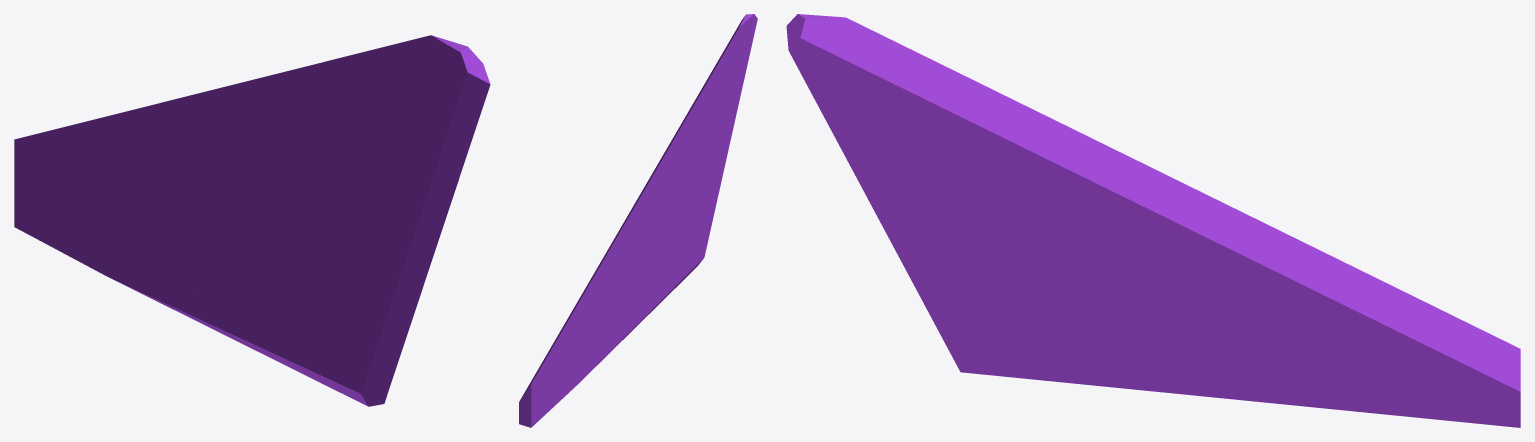
Rendered from Window_13_9_chunks.fbx.
3 views of the same model, side by side, from view 1: azimuth 30°, elevation 25°; view 2: azimuth 150°, elevation 25°; view 3: azimuth 270°, elevation 25° (orthographic). The views are drawn at different scales.
Visible parts, largest first — view 1: Window_13_9_2, Window_13_9_3, Window_13_9_0, Window_13_9_5, Window_13_9_1, Window_13_9_6, Window_13_9_4; view 2: Window_13_9_2, Window_13_9_3, Window_13_9_5, Window_13_9_0, Window_13_9_1, Window_13_9_6, Window_13_9_4; view 3: Window_13_9_2, Window_13_9_1, Window_13_9_3, Window_13_9_5, Window_13_9_6, Window_13_9_4, Window_13_9_0.
Boxes of the visible parts, x1=… form: Window_13_9_2: x1=267, y1=35, x2=490, y2=301; Window_13_9_3: x1=14, y1=115, x2=171, y2=294; Window_13_9_0: x1=271, y1=179, x2=418, y2=406; Window_13_9_5: x1=168, y1=76, x2=284, y2=300; Window_13_9_1: x1=185, y1=215, x2=393, y2=405; Window_13_9_6: x1=110, y1=86, x2=228, y2=199; Window_13_9_4: x1=143, y1=233, x2=197, y2=314; Window_13_9_2: x1=648, y1=14, x2=757, y2=205; Window_13_9_3: x1=519, y1=301, x2=609, y2=427; Window_13_9_5: x1=608, y1=168, x2=665, y2=330; Window_13_9_0: x1=659, y1=179, x2=721, y2=278; Window_13_9_1: x1=615, y1=234, x2=691, y2=347; Window_13_9_6: x1=572, y1=201, x2=637, y2=310; Window_13_9_4: x1=596, y1=316, x2=622, y2=365; Window_13_9_2: x1=786, y1=14, x2=1111, y2=268; Window_13_9_1: x1=945, y1=231, x2=1268, y2=402; Window_13_9_3: x1=1298, y1=272, x2=1520, y2=427; Window_13_9_5: x1=1089, y1=148, x2=1256, y2=355; Window_13_9_6: x1=1173, y1=178, x2=1364, y2=326; Window_13_9_4: x1=1219, y1=319, x2=1355, y2=411; Window_13_9_0: x1=905, y1=256, x2=1009, y2=343.
Bounding box in the file's own units: 27.2 × 541 × 887.
